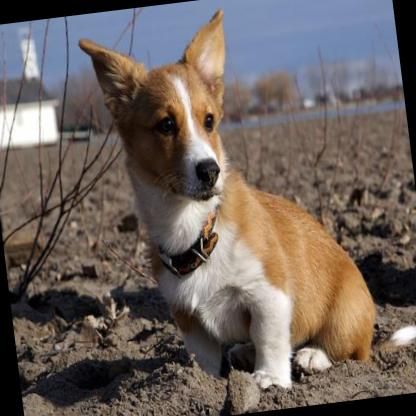Cardigan: (72, 0, 416, 405)
